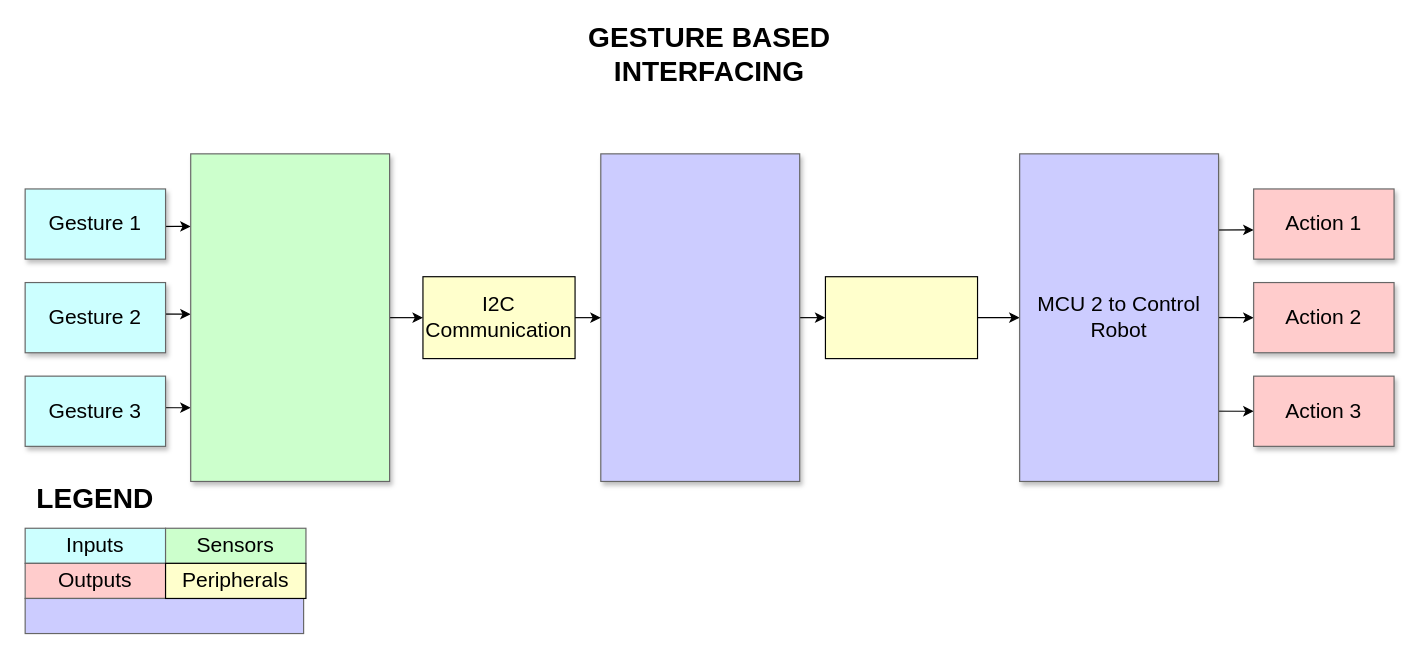
This 1422x654 diagram has some shape labels left out. The centre of each missing label's shape, as x and y in pixels:
"Controller" goes at (x=164, y=615).
"MPU6050 Data Acquisition using Gyroscope and Accelorometer" goes at (x=291, y=319).
"NRF24 Radio Module" goes at (x=901, y=317).
"Signal Classification using TINY ML State Selection Based on classification" goes at (x=701, y=319).
